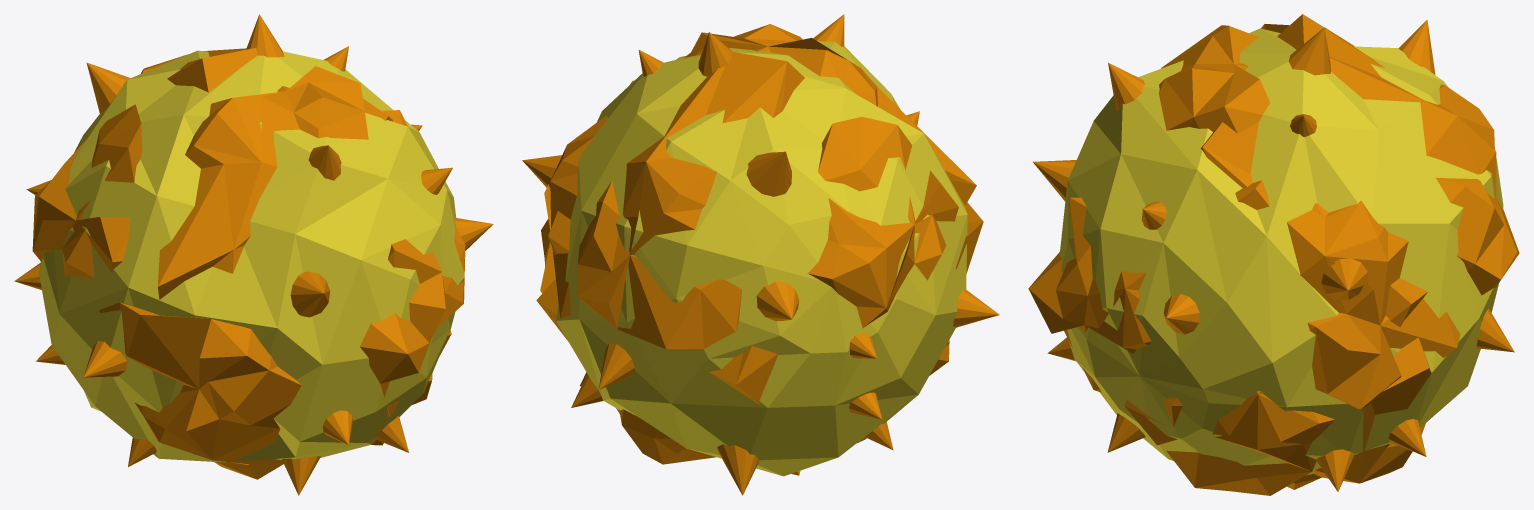
The picture shows the model from 3 angles, left to right: view 1: azimuth 30°, elevation 25°; view 2: azimuth 150°, elevation 25°; view 3: azimuth 270°, elevation 25°; orthographic projection. The views are drawn at different scales.
Parts seen in each view (by area): view 1: node_MeshObject-1652939904-PolyPaper13; view 2: node_MeshObject-1652939904-PolyPaper13; view 3: node_MeshObject-1652939904-PolyPaper13.
Part boxes in pixels (left/top/right/bottom): node_MeshObject-1652939904-PolyPaper13: left=14, top=14, right=493, bottom=495; node_MeshObject-1652939904-PolyPaper13: left=522, top=14, right=999, bottom=495; node_MeshObject-1652939904-PolyPaper13: left=1028, top=14, right=1519, bottom=495.
Size of the model in its own units: 2.19 by 2.23 by 2.15.
